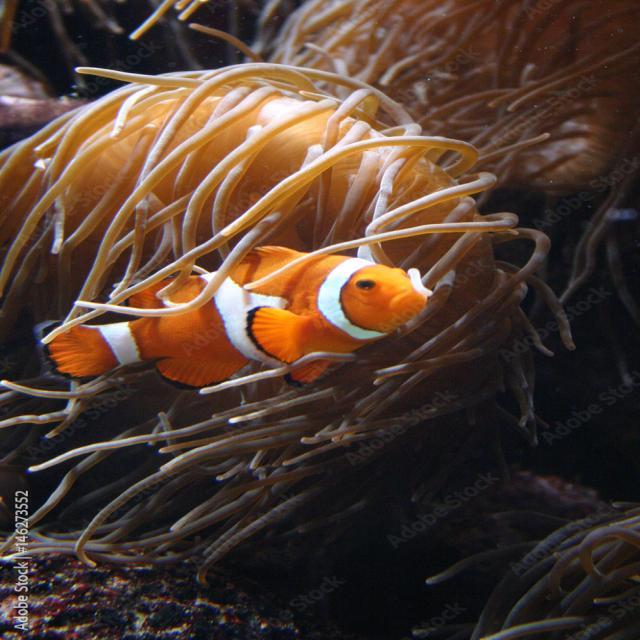ClownFish: (38, 244, 443, 395)
